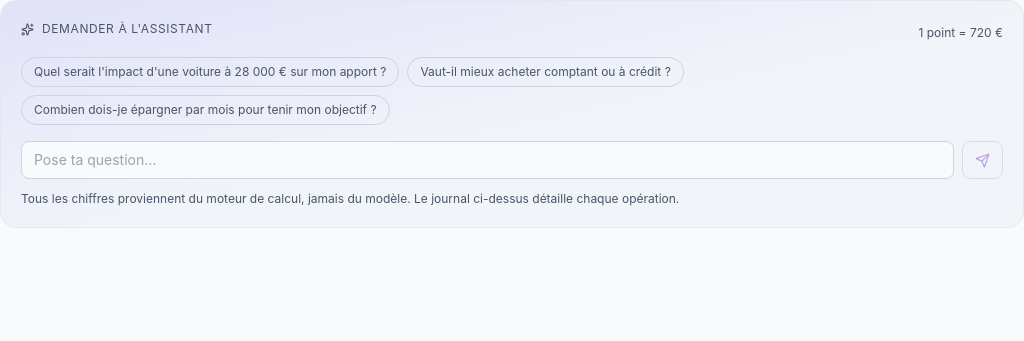
it: AssistantHorizon › affiche une question du modèle et ses options cliquables
This screenshot has width=1024, height=341.
Click the button "Combien dois-je épargner par mois pour tenir mon objectif ?".
click(205, 110)  # box x1=21 y1=95 x2=390 y2=125
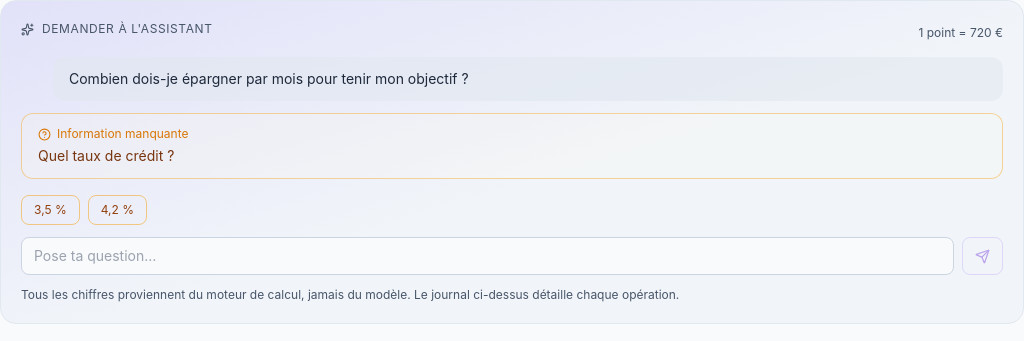
Result: the text "Information manquante" is shown at x1=38 y1=126 x2=188 y2=141
Result: the button "4,2 %" is shown at x1=88 y1=195 x2=147 y2=225
